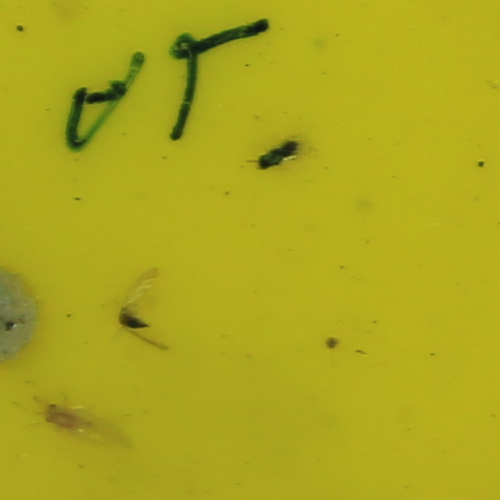Glycaspis: (37, 401, 100, 433)
Psyllaephagus: (258, 137, 300, 169)
psylla: (117, 308, 152, 330)
